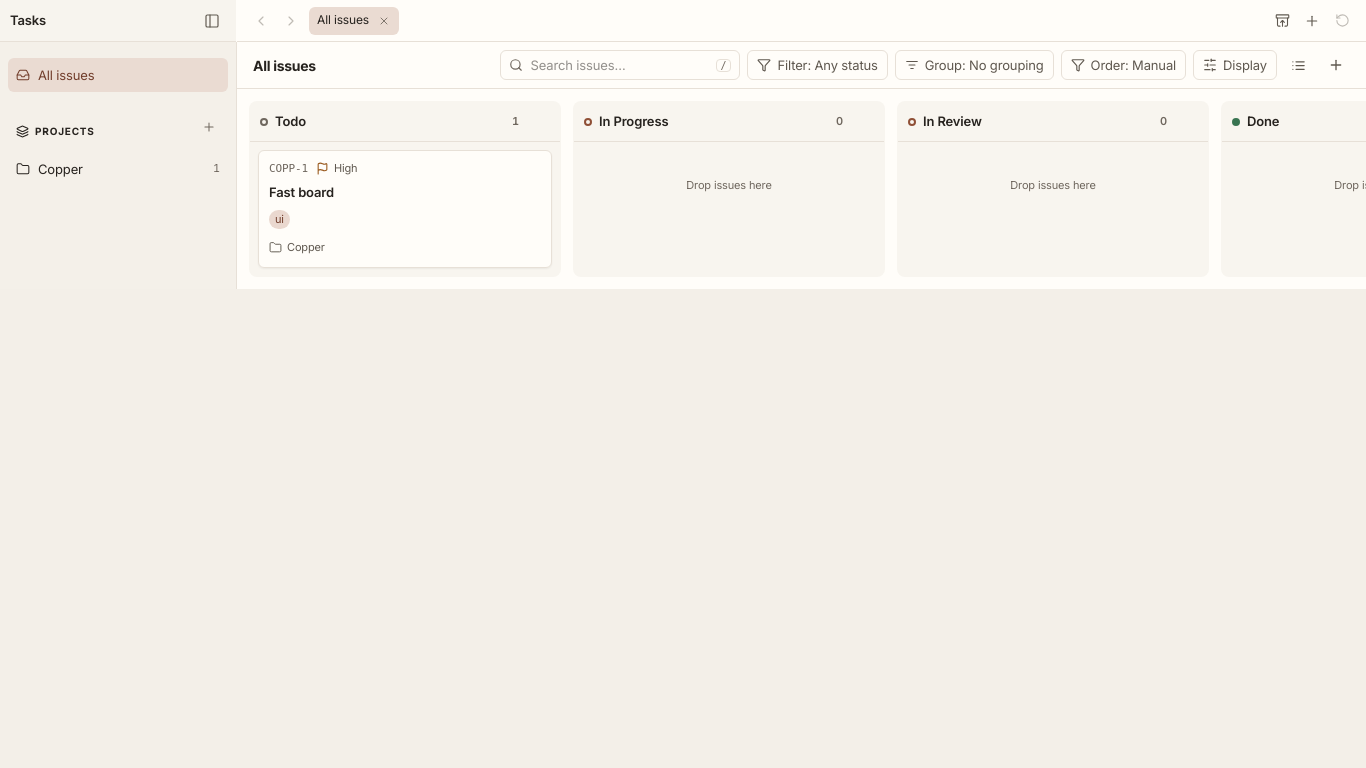
Test: TasksWorkspace › retains a failed issue draft for retry
Expected: the text "Fast board" is shown, [269, 184, 334, 200]
Click the button named "New issue" at coordinates (1336, 65), box [1322, 51, 1350, 79]
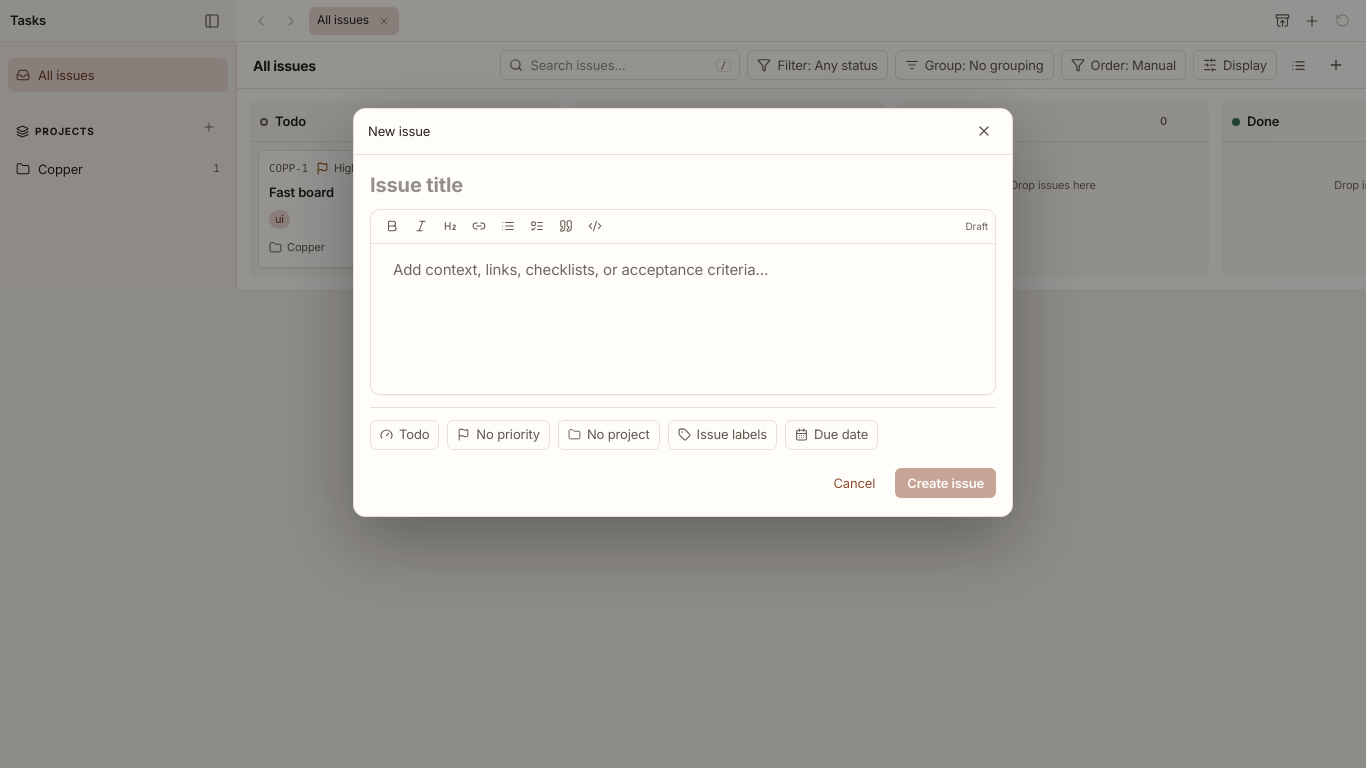
Type "Keep this draft" into the field named "New issue title" at coordinates (683, 184), box [370, 170, 996, 198]
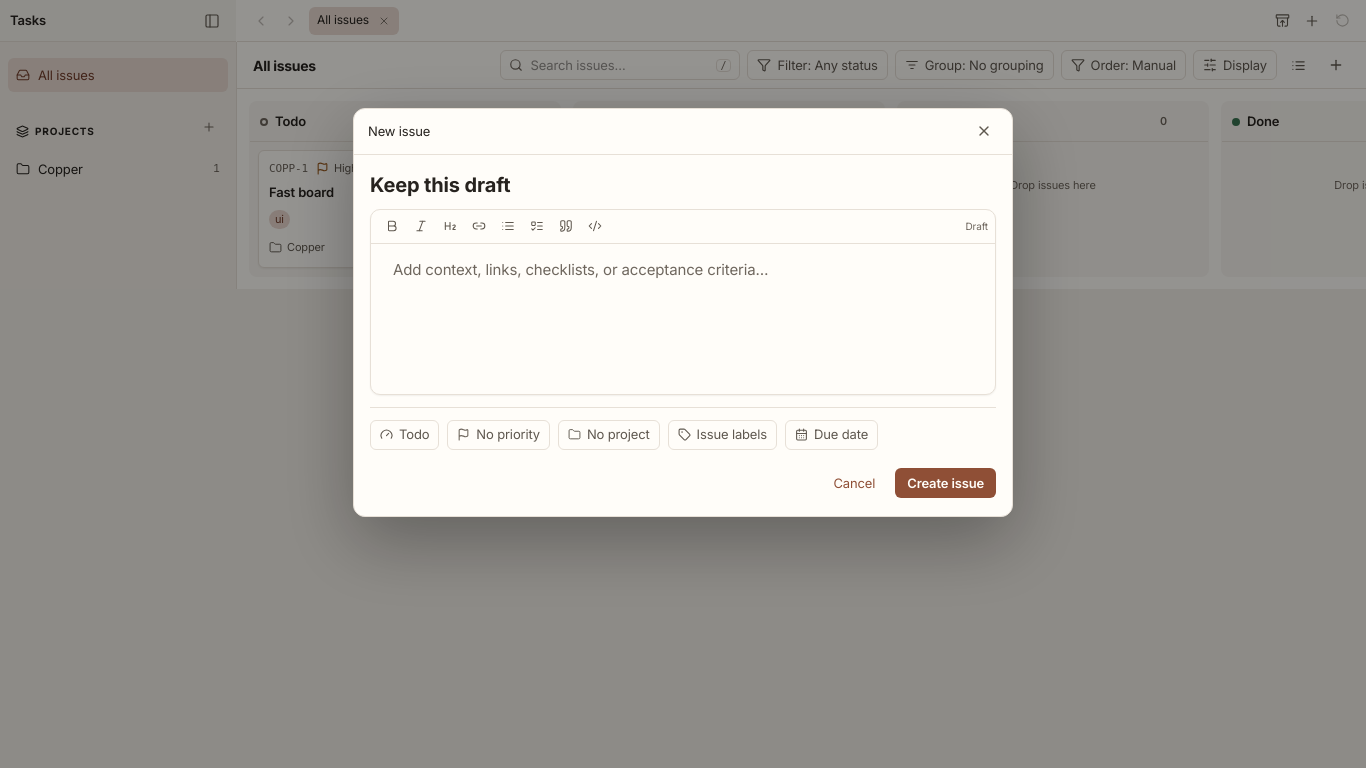
Click the button "Create issue" at coordinates (946, 483), box [895, 468, 996, 498]
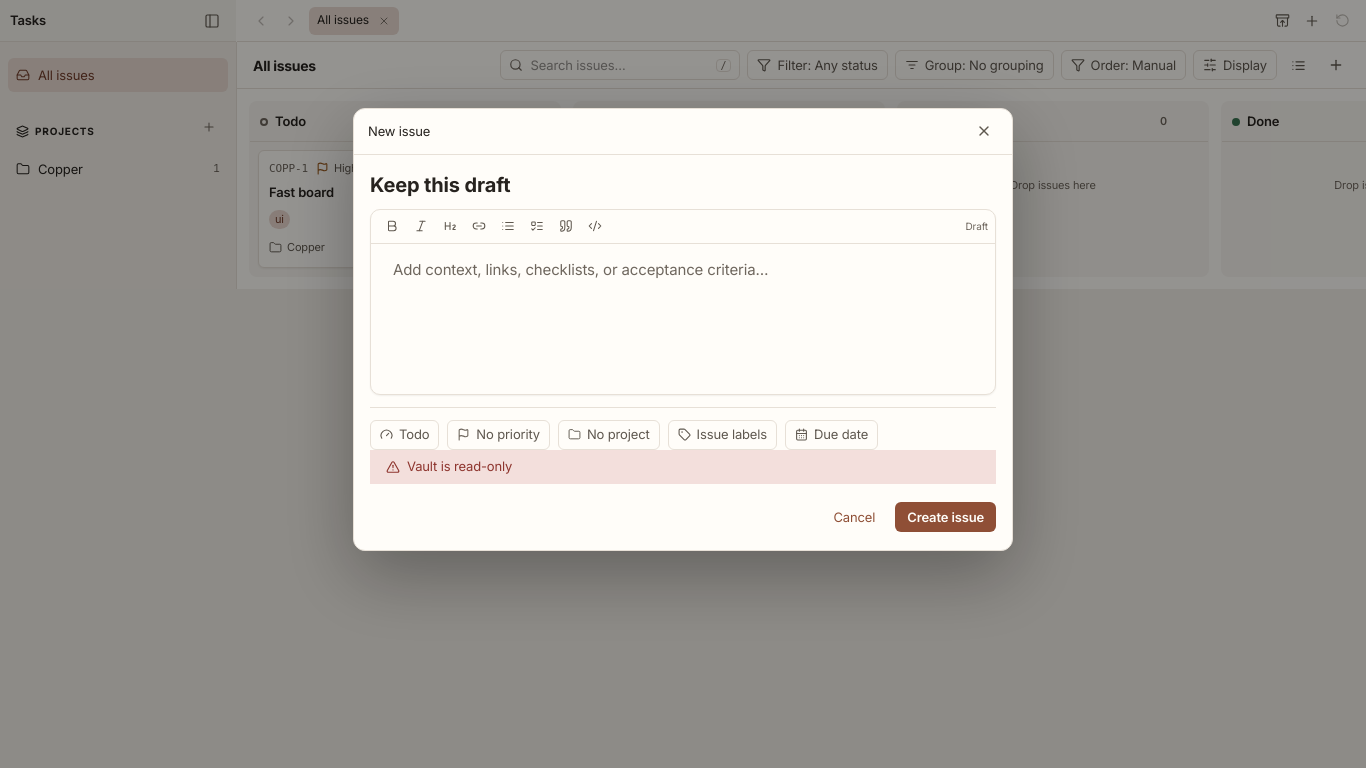
Expected: the button "Create issue" is enabled, [895, 502, 996, 532]
Expected: the message "Vault is read-only" is shown, [370, 450, 996, 484]
